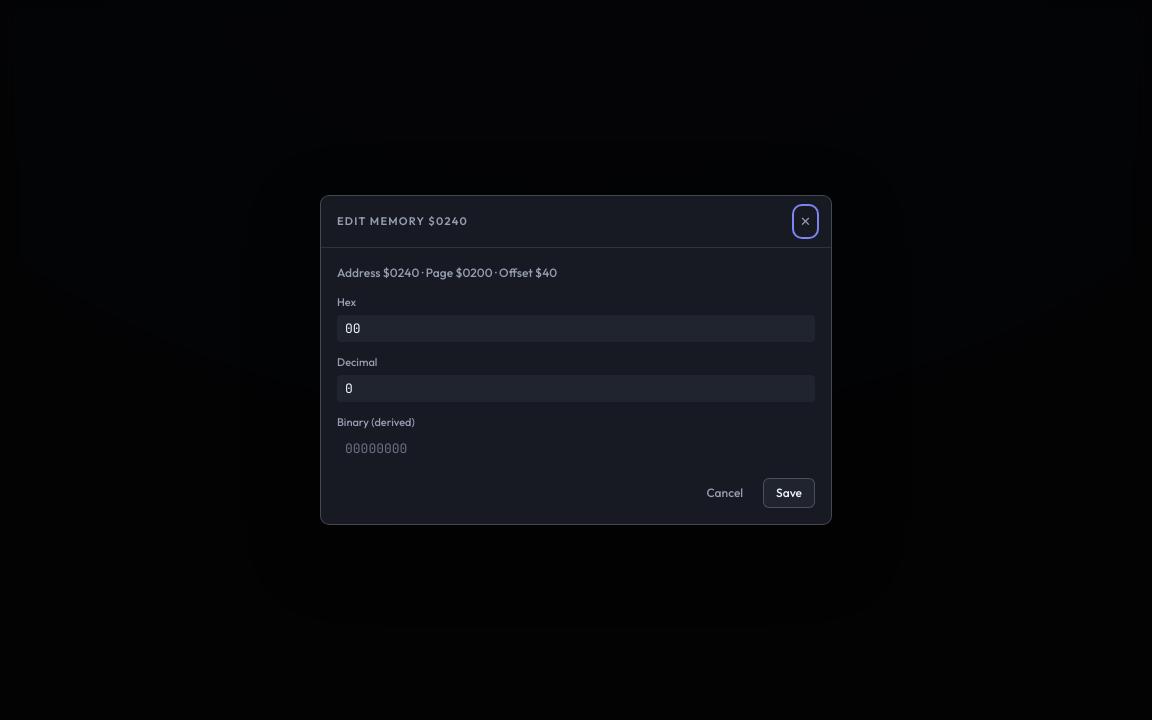
Test: MemoryEditModal › keeps hex and decimal bidirectional and binary derived read-only
Replace the text in the field with test id "memedit-dec" with "255" at (576, 389), box [337,375,815,402]
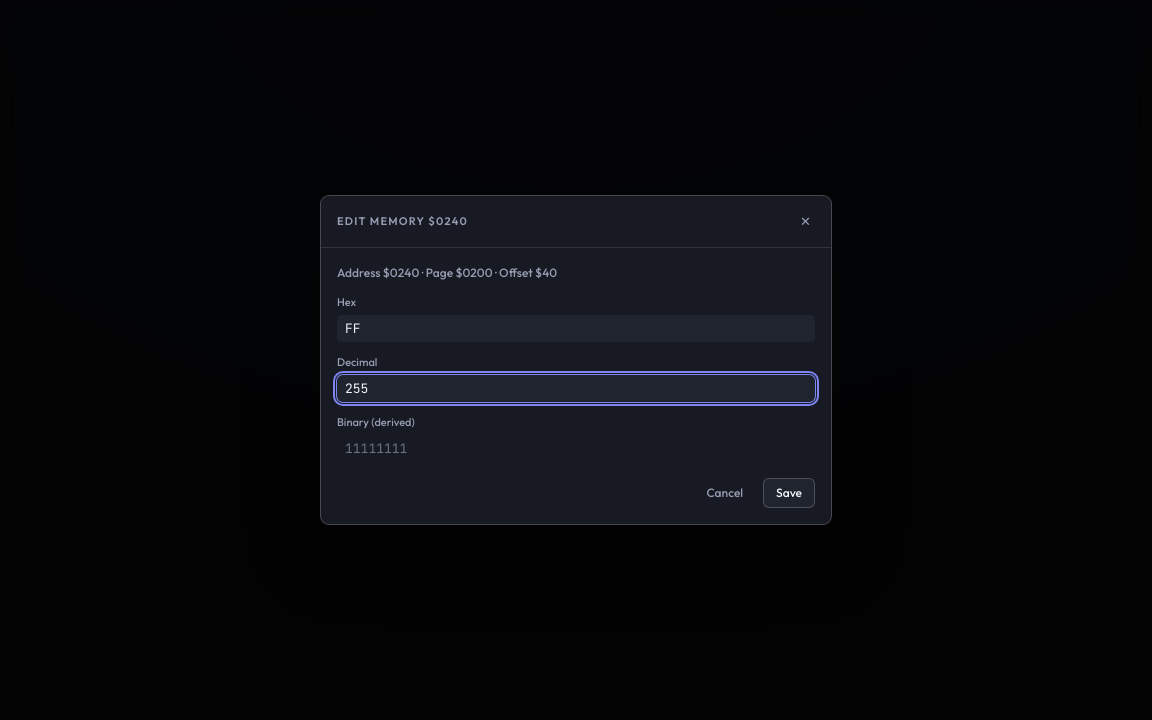
expect the field with test id "memedit-hex" holds "FF": met, box [337,315,815,342]
expect the field with test id "memedit-bin" holds "11111111": met, box [337,435,815,462]
